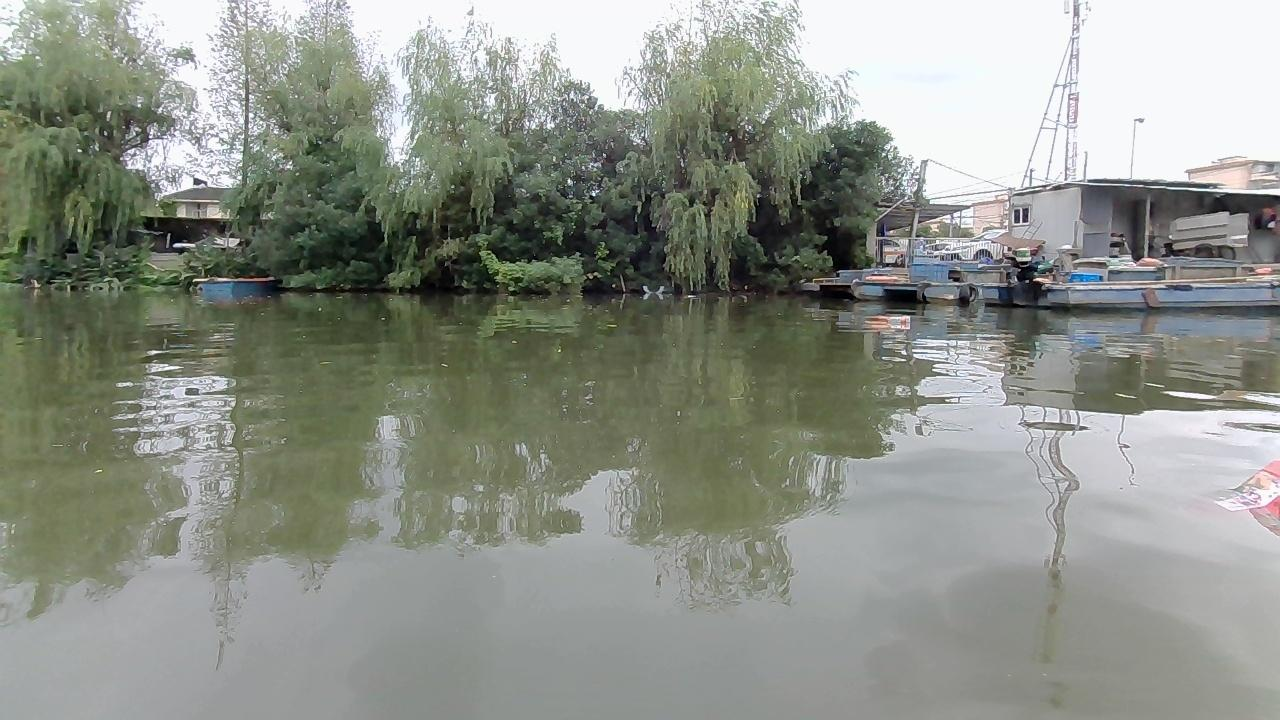bottle: (878, 311, 913, 329)
